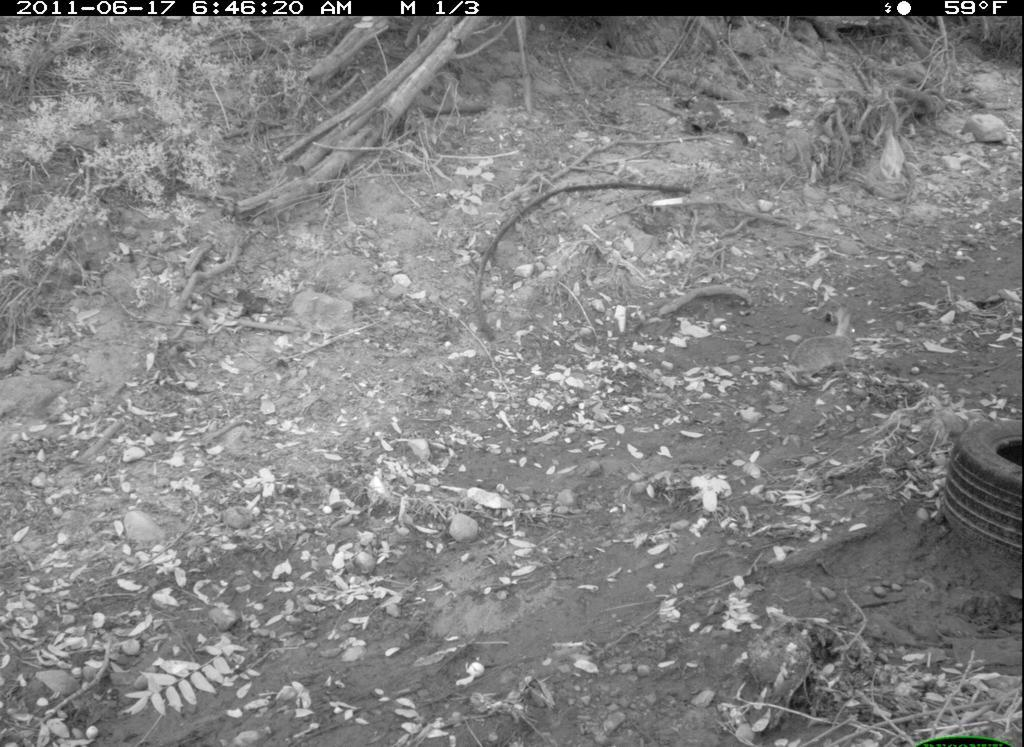rabbit: (760, 303, 882, 399)
